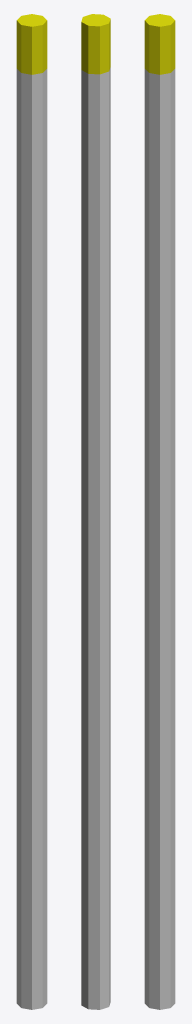
File: Incense.fbx
3 renders of one model, left to right at view 1: azimuth 90°, elevation 25°; view 2: azimuth 150°, elevation 25°; view 3: azimuth 270°, elevation 25°, orthographic.
Parts seen in each view (by area): view 1: Cylinder.004; view 2: Cylinder.004; view 3: Cylinder.004.
Boxes of the visible parts, x1,y1,x2,y2 form: Cylinder.004: (16,14,47,1009); Cylinder.004: (81,14,110,1009); Cylinder.004: (144,14,175,1009).
Bounding box in the file's own units: 1.9 × 67.6 × 1.9.
